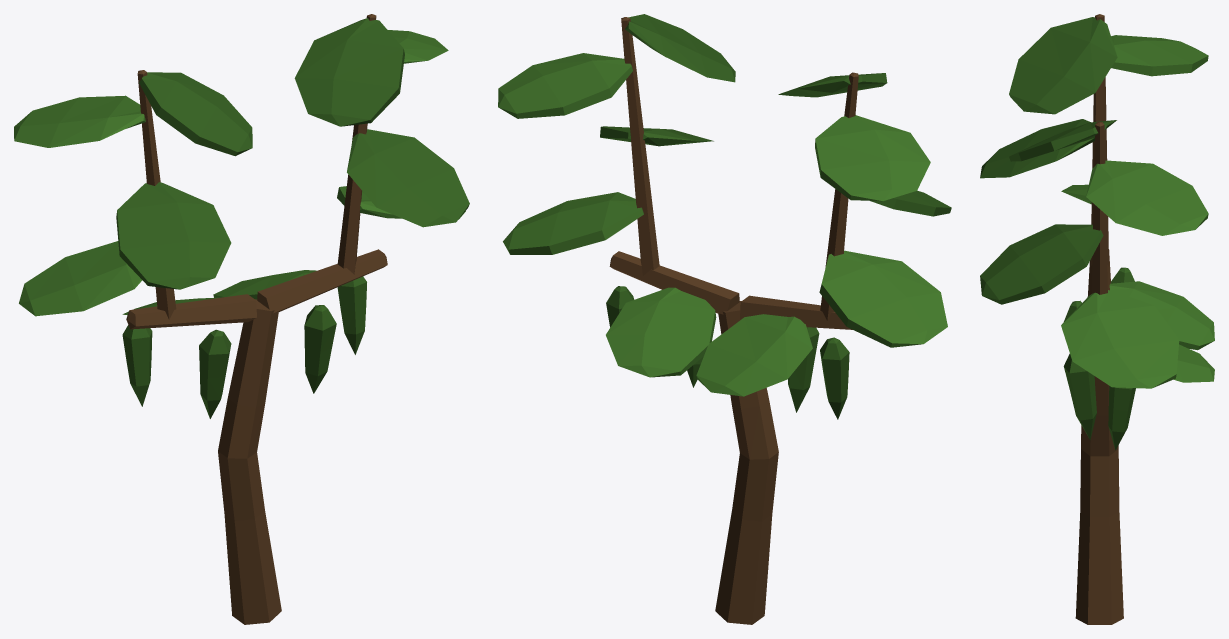
File: grape_2.gltf
The picture shows the model from 3 angles, left to right: view 1: azimuth 30°, elevation 25°; view 2: azimuth 150°, elevation 25°; view 3: azimuth 270°, elevation 25°; orthographic projection. The views are drawn at different scales.
Visible parts, largest first — view 1: grape_2; view 2: grape_2; view 3: grape_2.
Boxes of the visible parts, x1,y1,x2,y2 form: grape_2: (14, 14, 469, 624); grape_2: (498, 14, 951, 624); grape_2: (980, 14, 1214, 624).
Size of the model in its own units: 1.07 by 1.37 by 0.5267.
